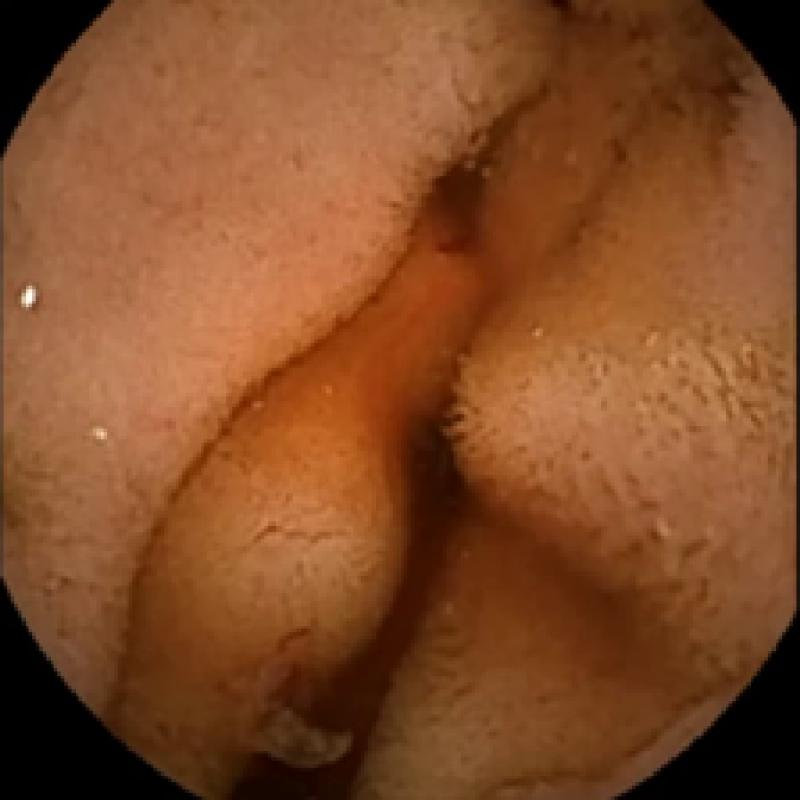bleeding: (225, 393, 475, 800), (414, 128, 486, 268)
